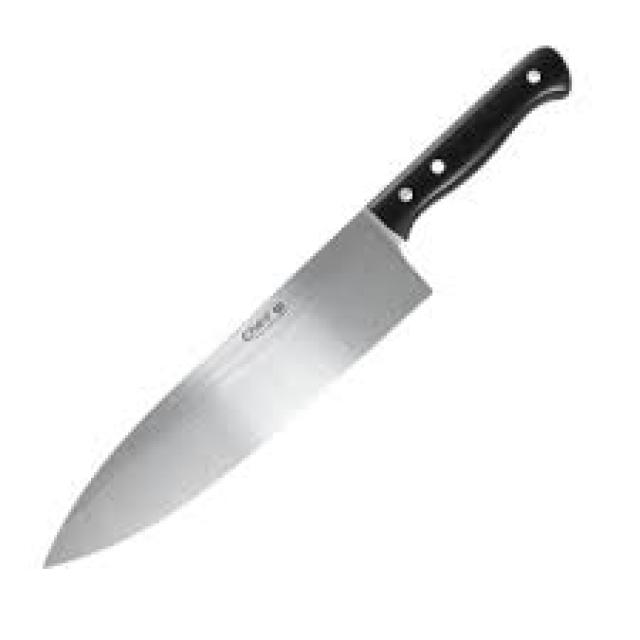Knife: (43, 46, 569, 569)
